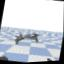drone: (13, 31, 39, 47)
